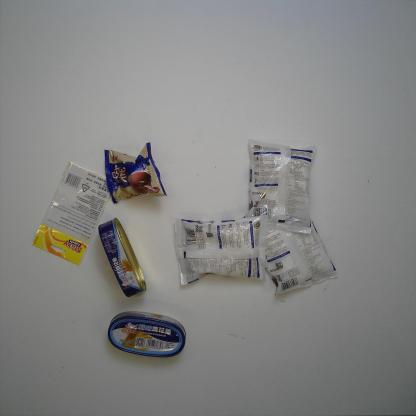Canned Food: (96, 216, 151, 300), (107, 308, 188, 358)
Dessert: (103, 140, 169, 204)
Seasoner: (239, 202, 340, 300), (236, 135, 316, 237), (172, 210, 265, 290)
Stationery: (29, 161, 120, 265)
